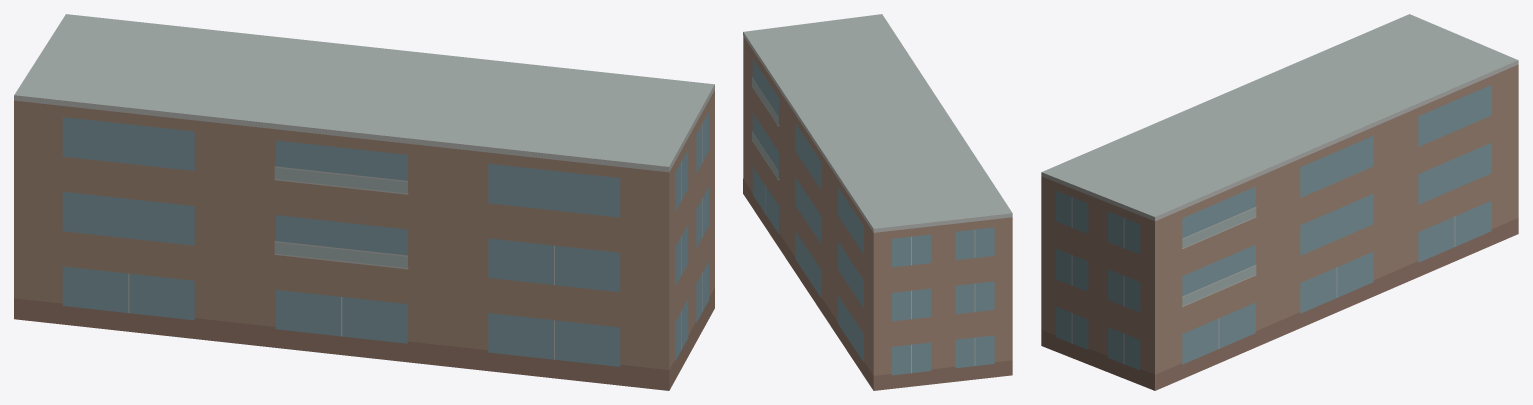
File: survey-upis-32884203.glb
3 renders of one model, left to right at view 1: azimuth 30°, elevation 25°; view 2: azimuth 150°, elevation 25°; view 3: azimuth 270°, elevation 25°, orthographic. The views are drawn at different scales.
Visible parts, largest first — view 1: survey-upis-32884203.tmp; view 2: survey-upis-32884203.tmp; view 3: survey-upis-32884203.tmp.
Part boxes in pixels (<box>): survey-upis-32884203.tmp: <box>14,14,714,390</box>; survey-upis-32884203.tmp: <box>743,14,1012,390</box>; survey-upis-32884203.tmp: <box>1041,14,1518,390</box>.
Size of the model in its own units: 25.34 by 10.1 by 25.14.
